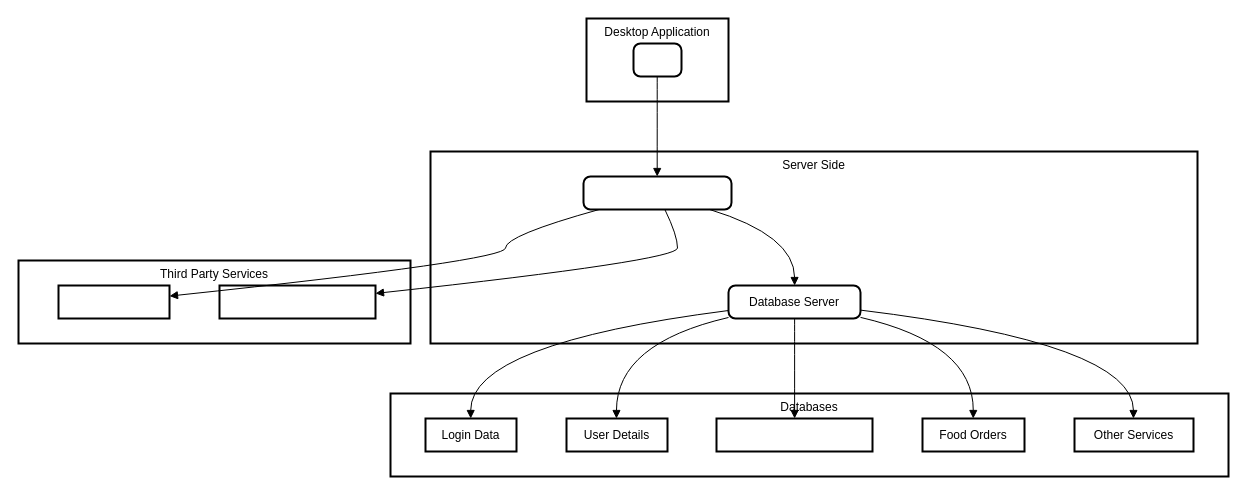
This 1246x494 diagram has some shape labels left out. Each missing label, with the centre of its shape:
Application Server: [657,192]
Email Service: [113,301]
Membership Details: [794,434]
Notification Service: [297,301]
User: [657,59]
